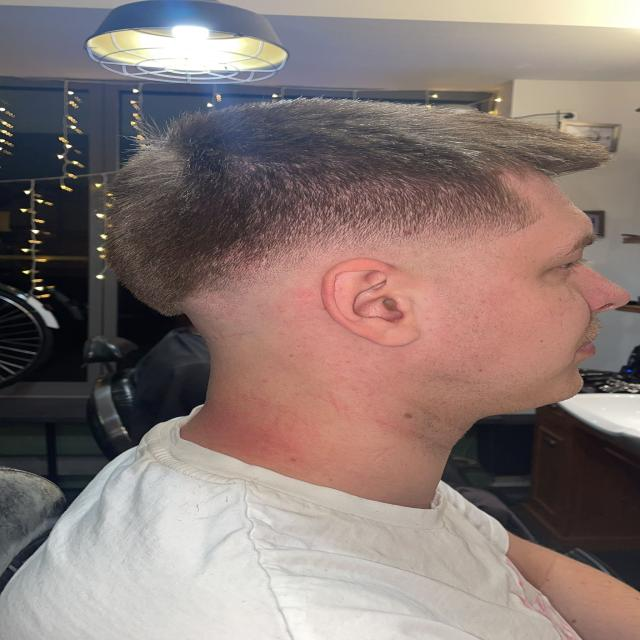JeremiasDiaz: (106, 104, 637, 422)
